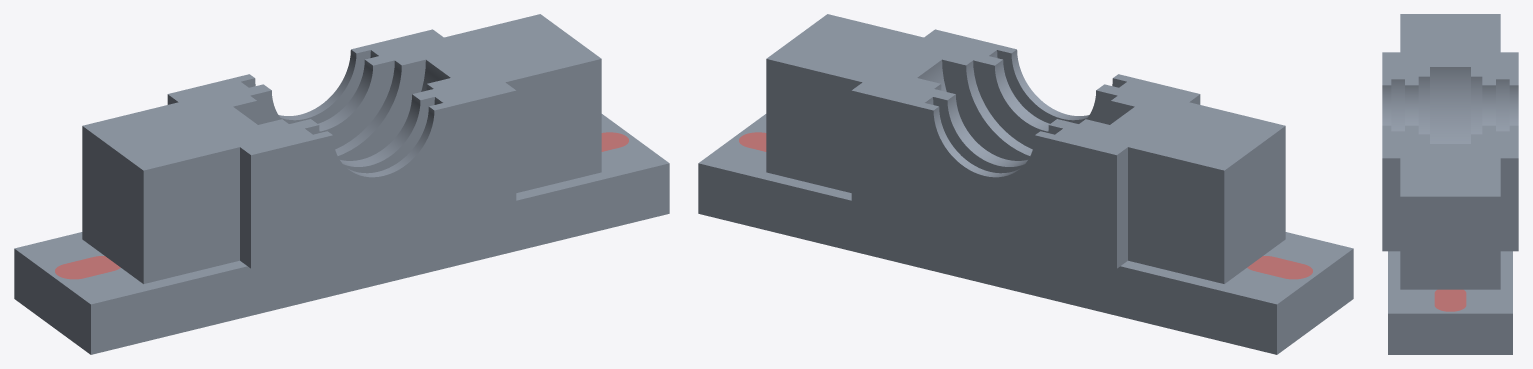
Rendered from step_04.glb.
3 renders of one model, left to right at view 1: azimuth 30°, elevation 25°; view 2: azimuth 150°, elevation 25°; view 3: azimuth 270°, elevation 25°, orthographic. The views are drawn at different scales.
Parts seen in each view (by area): view 1: part__housing base, removed__housing base; view 2: part__housing base, removed__housing base; view 3: part__housing base, removed__housing base.
Part boxes in pixels (x1=…): part__housing base: x1=14, y1=14, x2=669, y2=354; removed__housing base: x1=55, y1=132, x2=628, y2=279; part__housing base: x1=698, y1=14, x2=1353, y2=354; removed__housing base: x1=739, y1=132, x2=1312, y2=279; part__housing base: x1=1382, y1=14, x2=1518, y2=354; removed__housing base: x1=1434, y1=289, x2=1466, y2=311.
Bounding box in the file's own units: 240 × 65 × 60.
